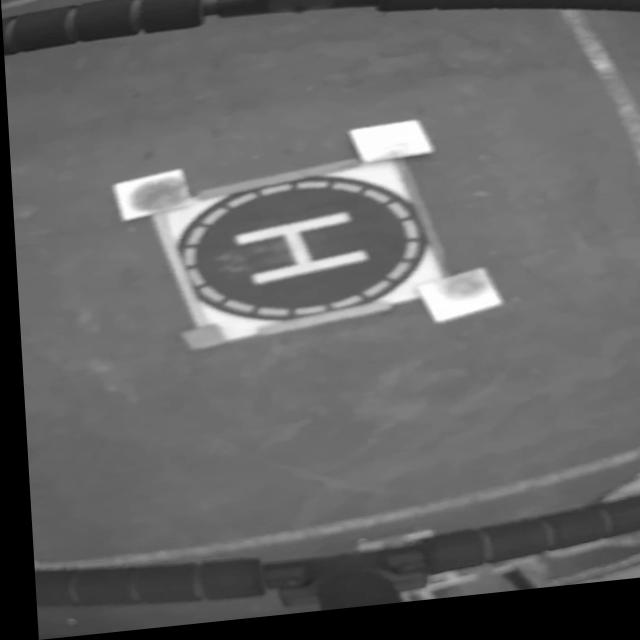Helipad: (227, 219, 365, 291)
